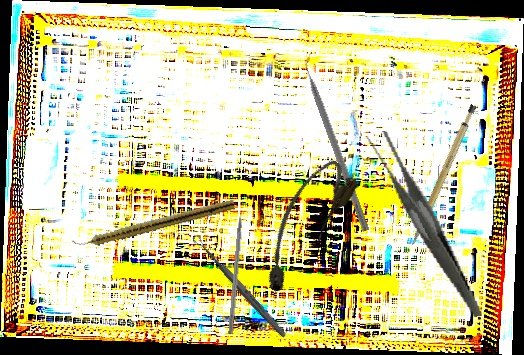Cannula: (244, 152, 364, 299)
Chopper: (299, 51, 379, 232)
Dressing Forceps: (365, 119, 483, 331)
Handpiece: (71, 195, 236, 253)
Hook Surgical: (228, 201, 246, 335)
Scalpel Handle: (389, 103, 495, 246)
Surgical Spoon: (190, 232, 289, 340)
